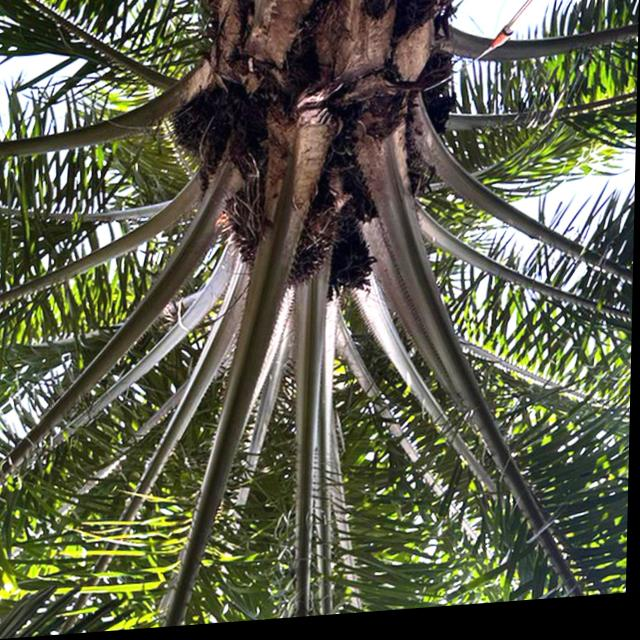ripe: (223, 183, 348, 297), (170, 96, 240, 174)
